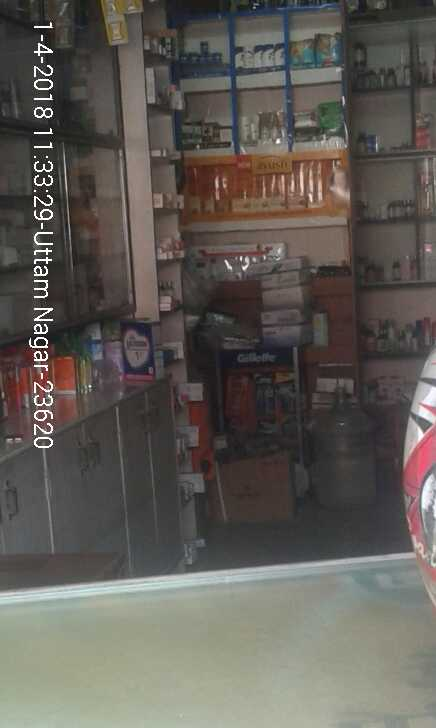vicks: (179, 37, 232, 72)
